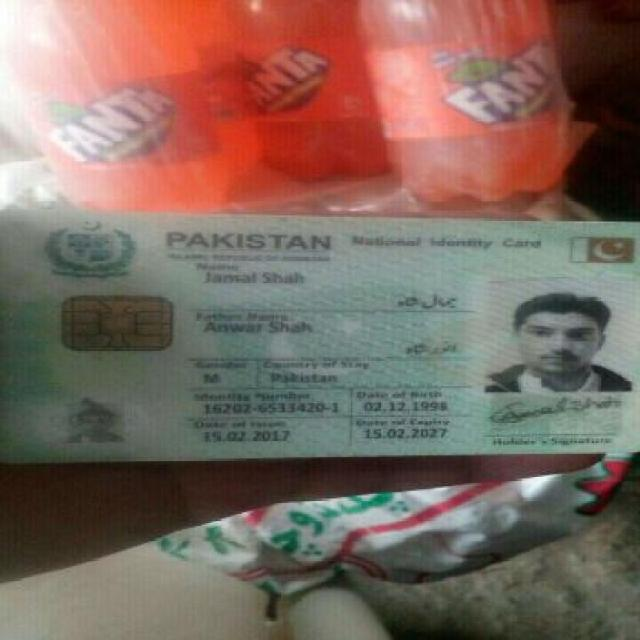Front: (6, 201, 631, 454)
